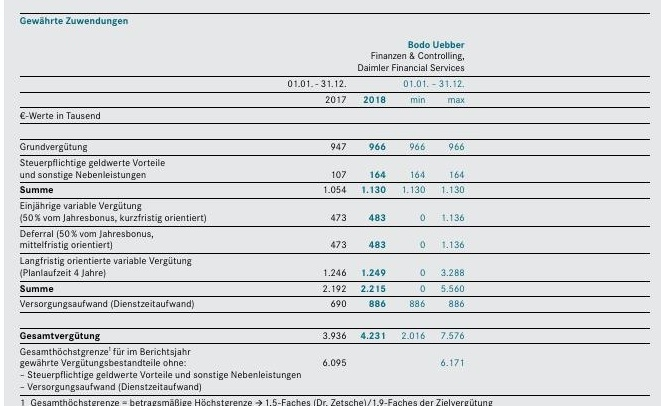table: (0, 0, 661, 406)
